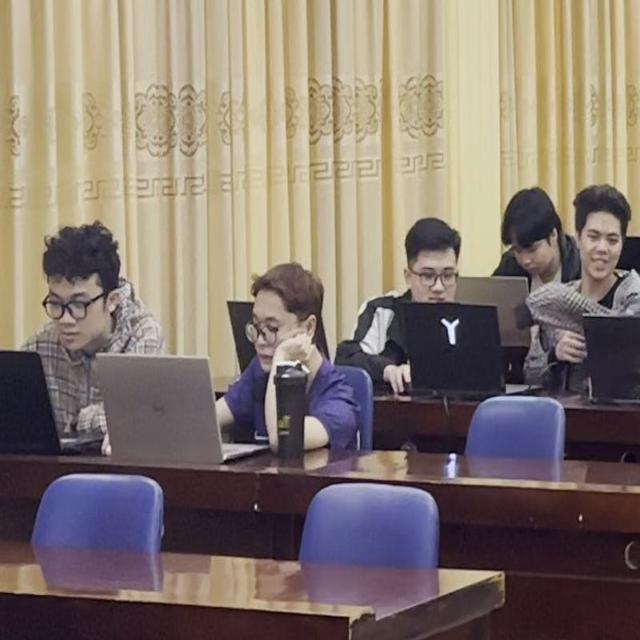Looking away: (30, 212, 125, 350), (242, 256, 318, 368), (492, 183, 563, 282), (568, 184, 632, 286), (395, 220, 461, 317)
